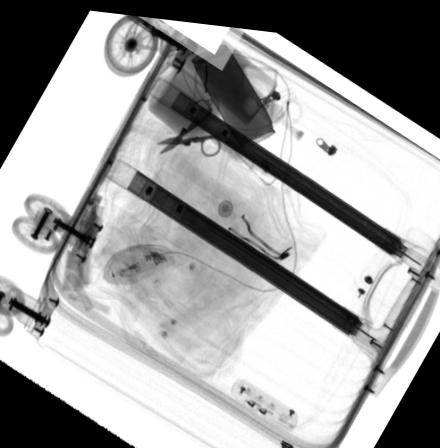Scissors: (157, 92, 221, 152)
